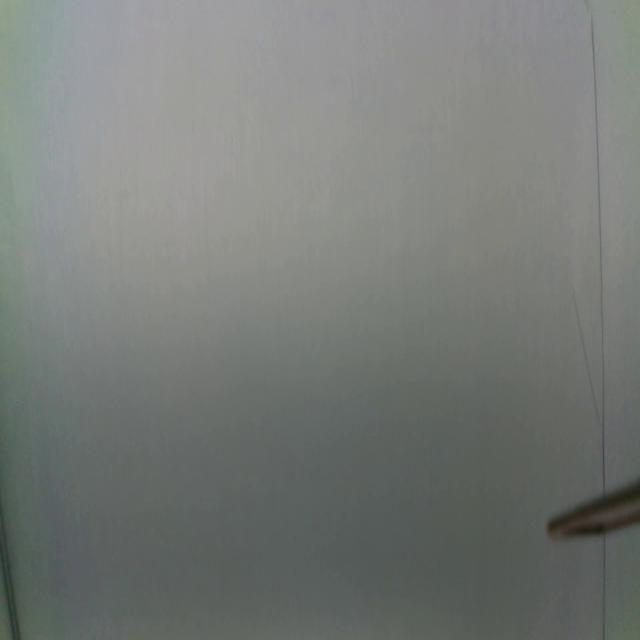crease: (589, 17, 611, 490), (572, 286, 598, 431), (0, 504, 22, 640), (597, 530, 610, 640)
